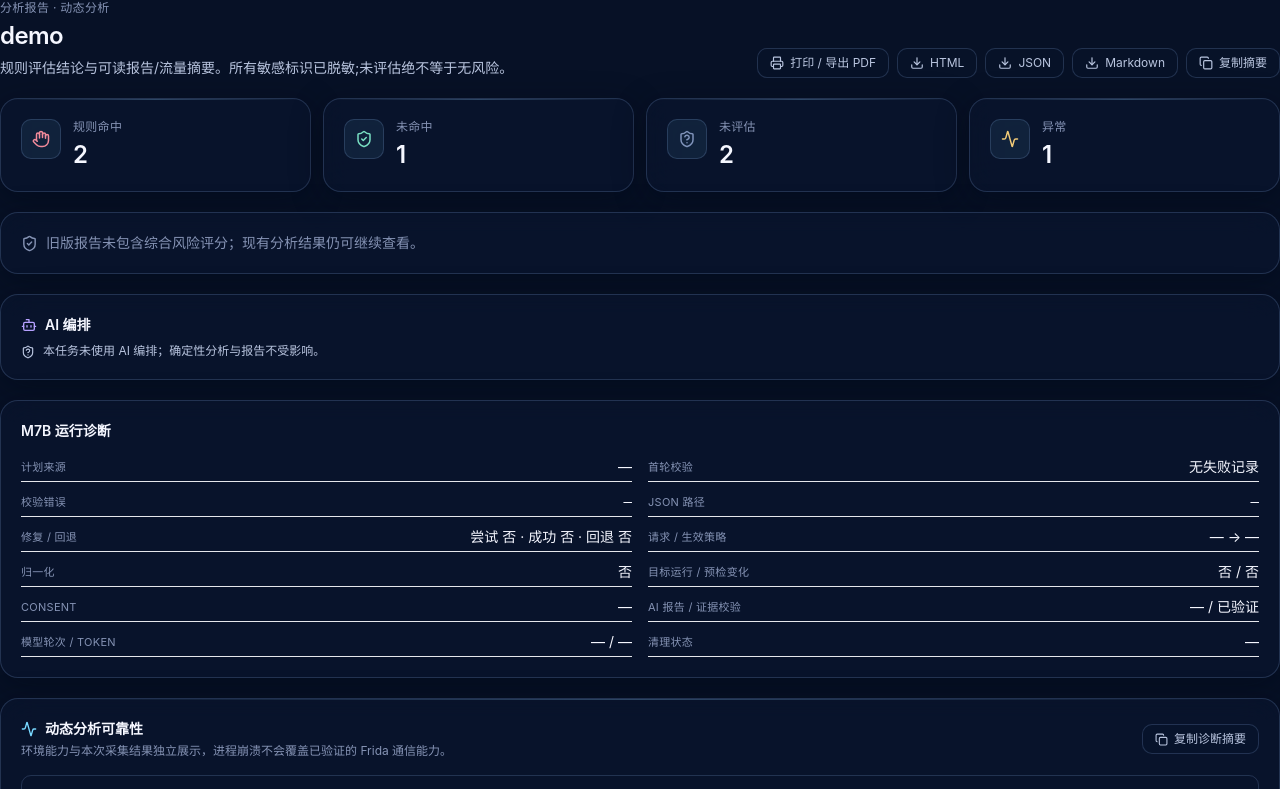
Test case: Reports — 持久化报告导出 › 任务报告提供 HTML 打印、JSON、Markdown 下载与摘要复制
Expected: the link "HTML" is shown, [897,48,977,78]
Expected: the link "JSON" is shown, [985,48,1064,78]
Click the button "复制摘要" at (1233, 63), box [1186,48,1279,78]
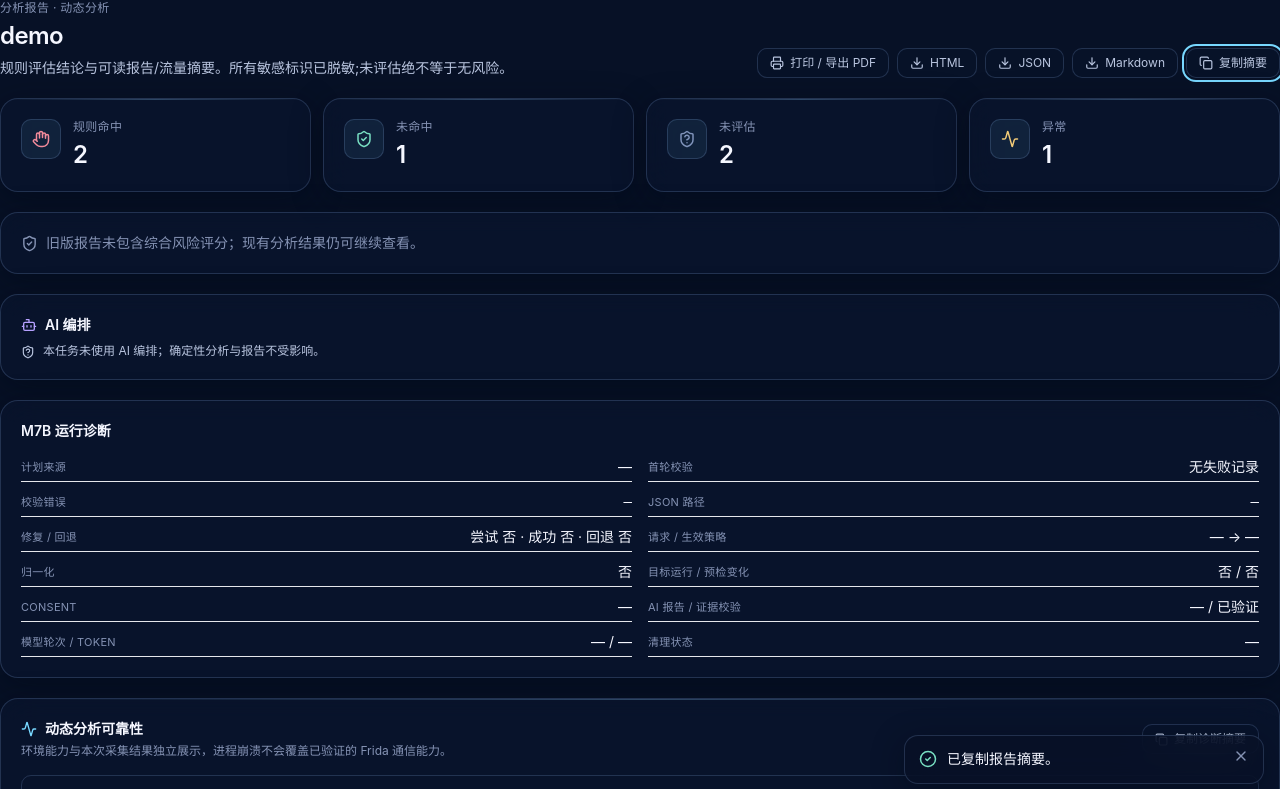
Expected: the text "已复制报告摘要。" is shown, [947,750,1059,767]
